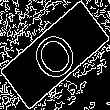O_SE: (25, 22, 85, 88)
